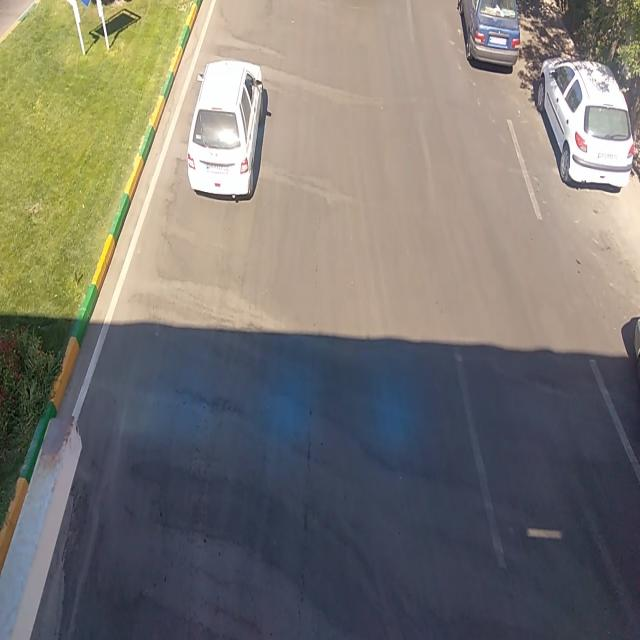car: (535, 44, 633, 191), (191, 55, 263, 197), (455, 4, 521, 73)
